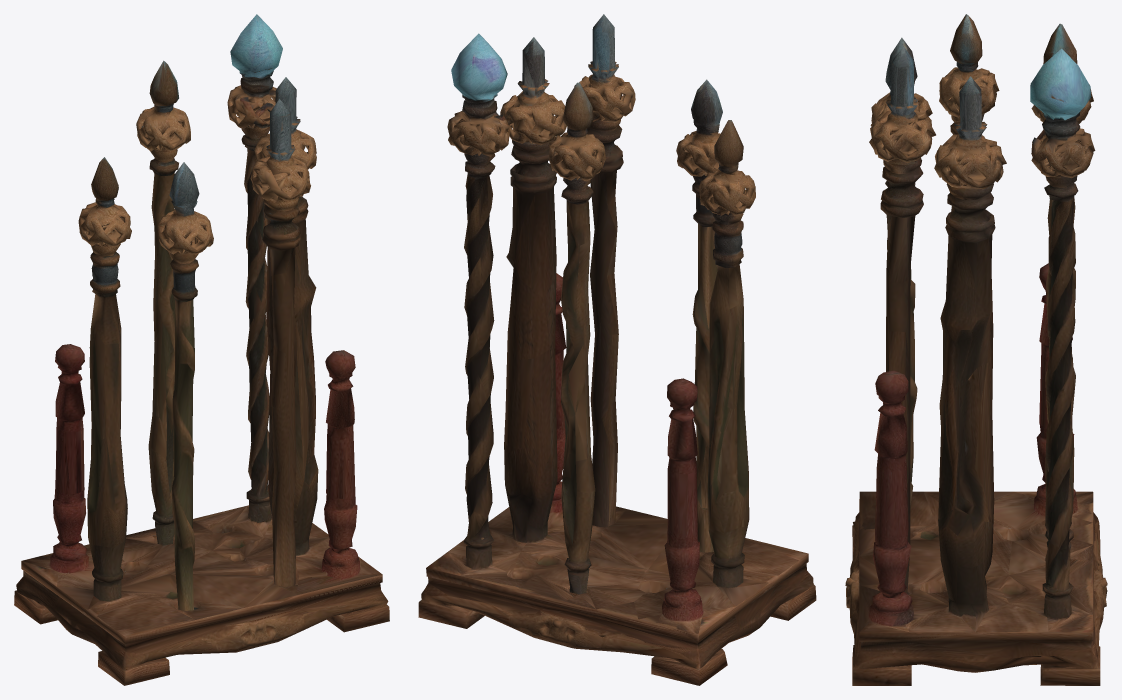
The model's file is staff_rack.glb.
3 renders of one model, left to right at view 1: azimuth 30°, elevation 25°; view 2: azimuth 150°, elevation 25°; view 3: azimuth 270°, elevation 25°, orthographic. The views are drawn at different scales.
Parts seen in each view (by area): view 1: staff_rack; view 2: staff_rack; view 3: staff_rack.
Boxes of the visible parts, x1,y1,x2,y2 form: staff_rack: [14, 14, 389, 685]; staff_rack: [418, 14, 816, 685]; staff_rack: [845, 14, 1107, 685].
Bounding box in the file's own units: 0.9333 × 1.84 × 0.7099.
Materials: 1 (1 with a texture image).
